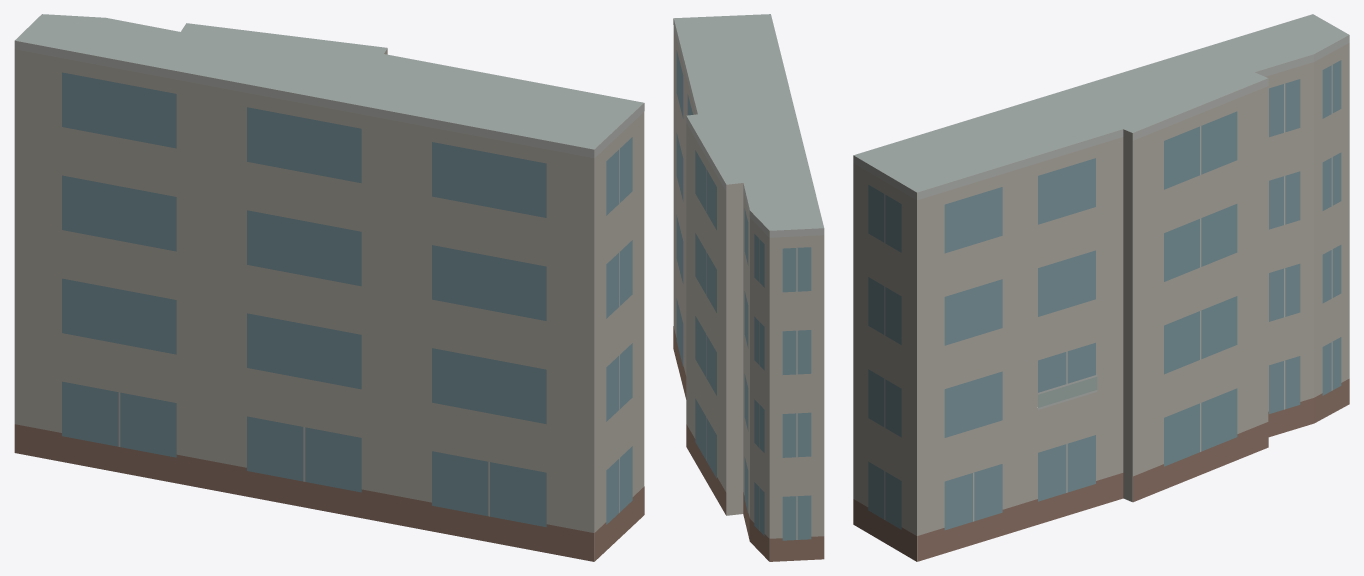
Rendered from survey-upis-32492924.glb.
3 views of the same model, side by side, from view 1: azimuth 30°, elevation 25°; view 2: azimuth 150°, elevation 25°; view 3: azimuth 270°, elevation 25° (orthographic). The views are drawn at different scales.
Parts seen in each view (by area): view 1: survey-upis-32492924.tmp; view 2: survey-upis-32492924.tmp; view 3: survey-upis-32492924.tmp.
Part boxes in pixels (x1,y1,x2,y2): survey-upis-32492924.tmp: (14,14,644,561); survey-upis-32492924.tmp: (673,14,824,561); survey-upis-32492924.tmp: (853,14,1349,561).
Size of the model in its own units: 12.15 by 11.7 by 14.26.
